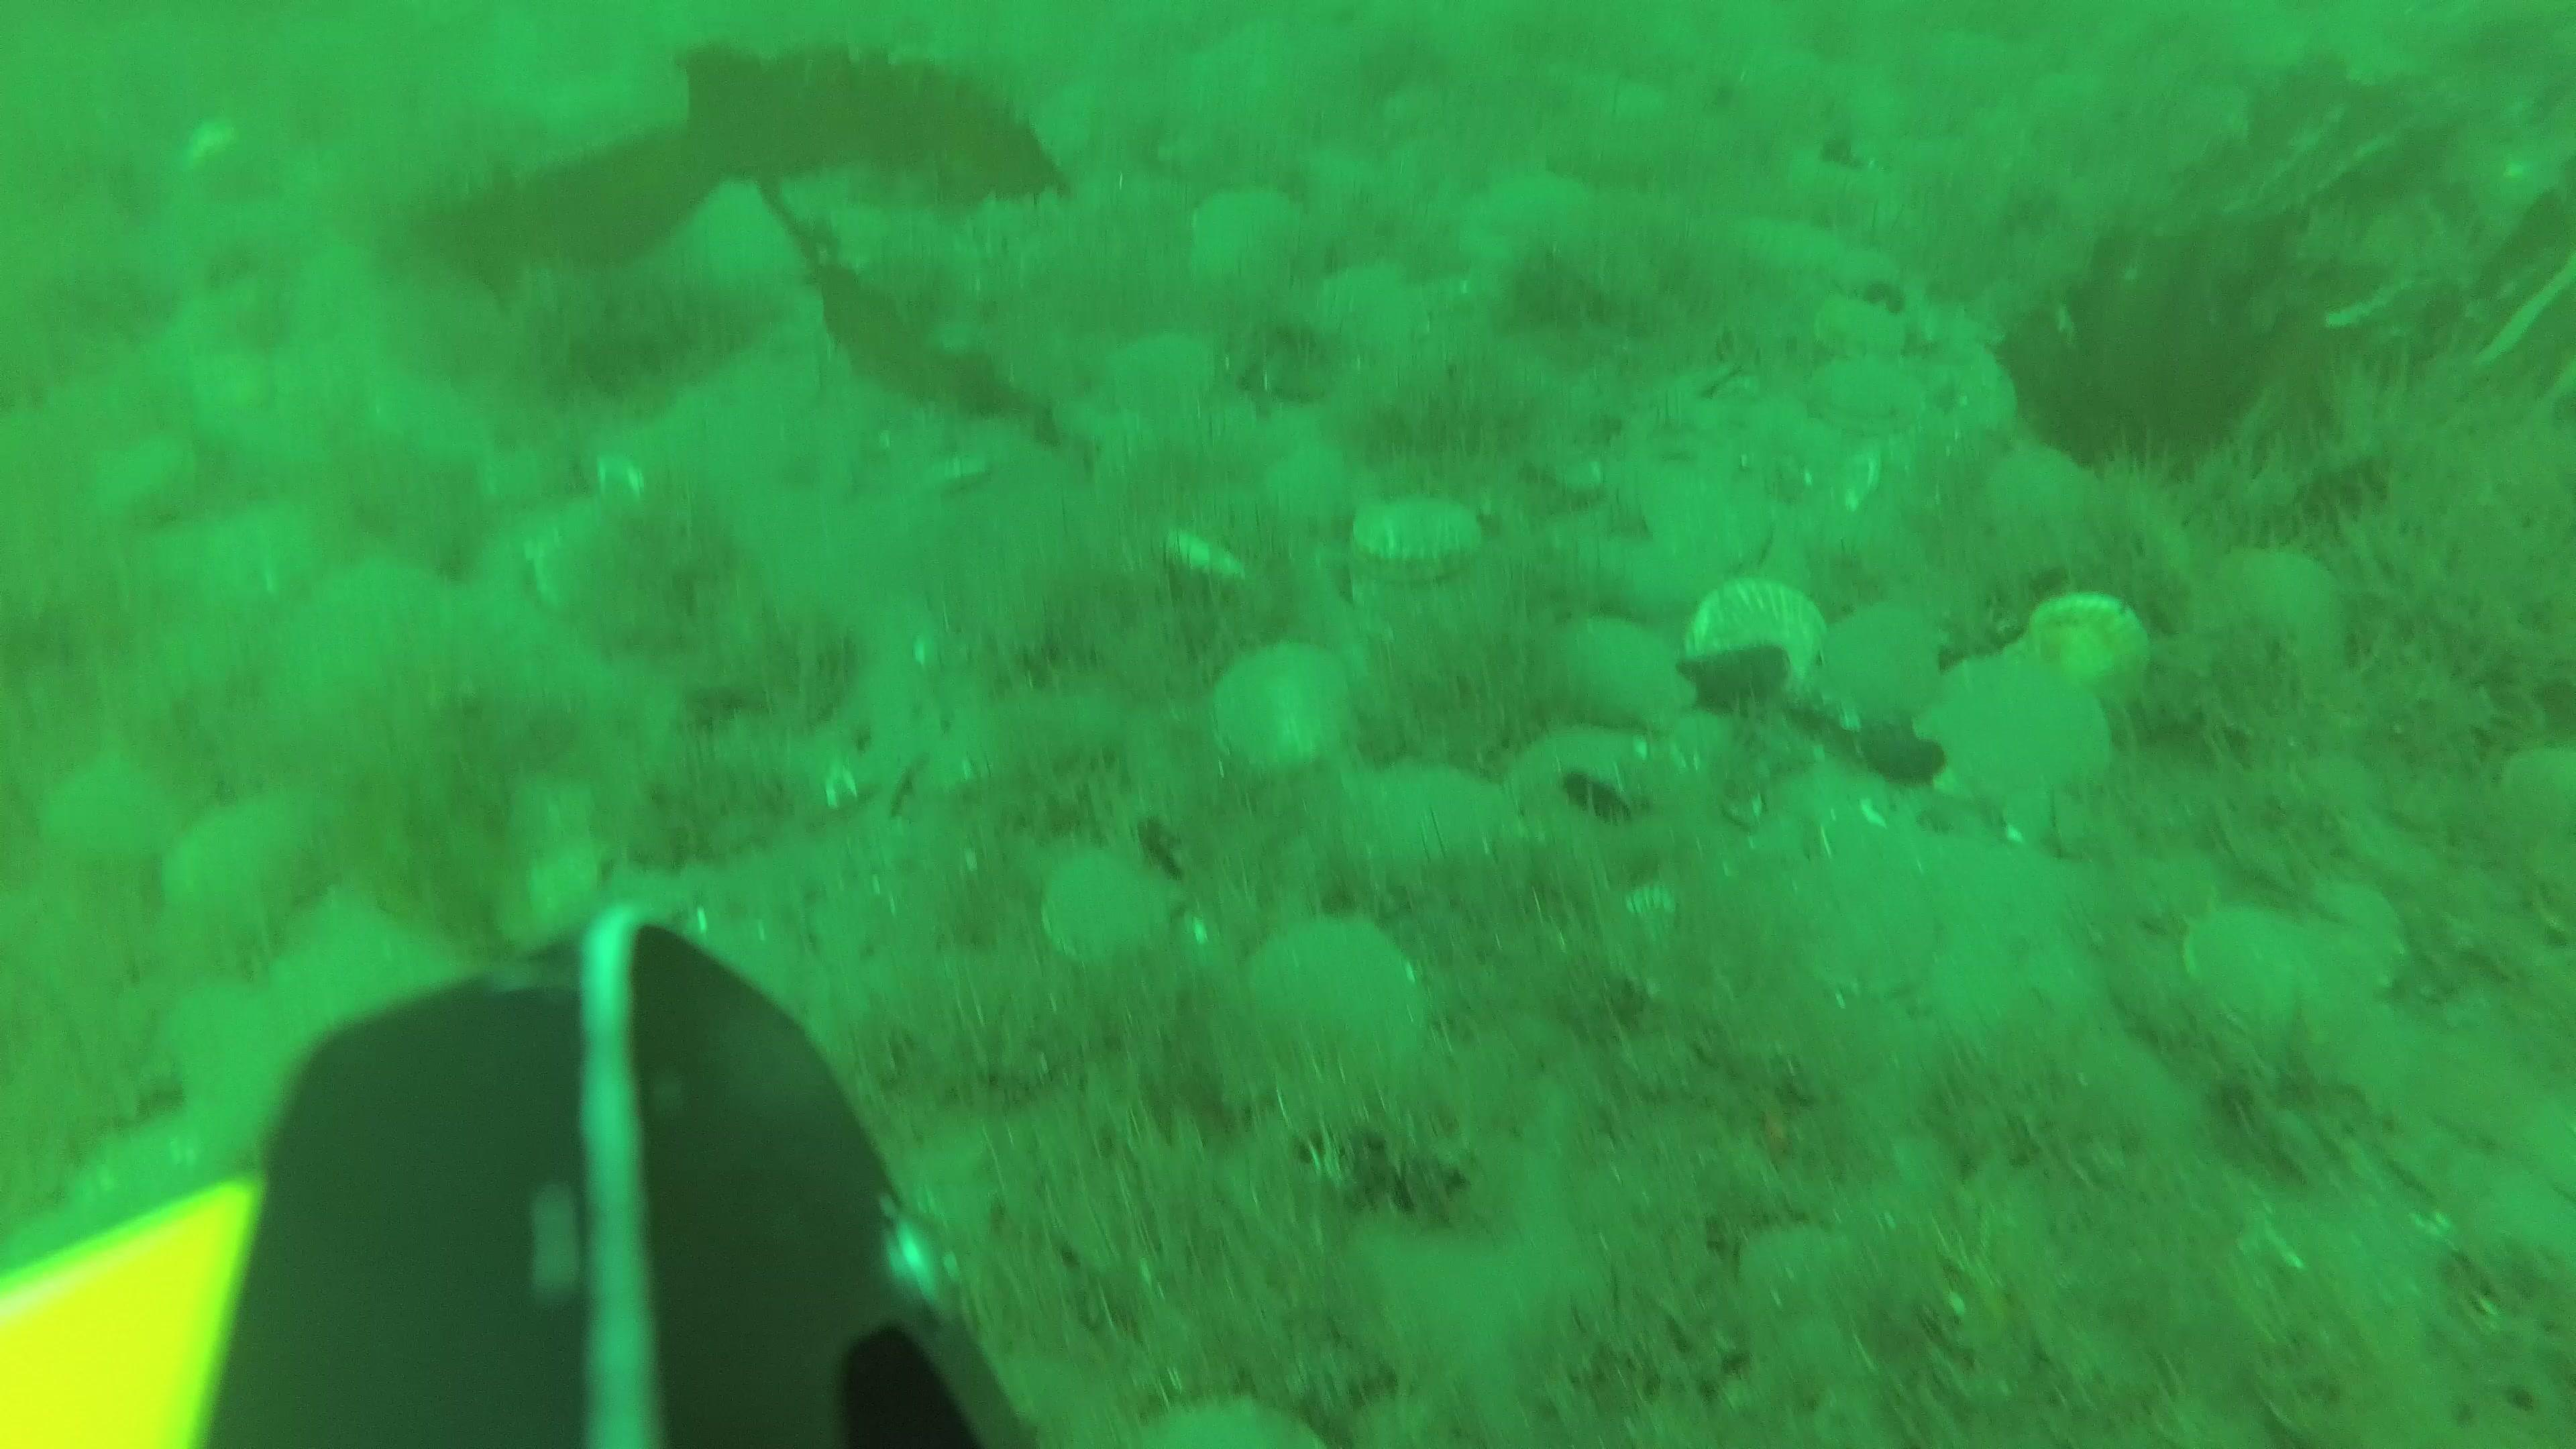scallop: (1258, 908, 1431, 1074), (1937, 660, 2112, 816), (2183, 902, 2351, 1062), (1790, 855, 1957, 1001), (2212, 540, 2362, 699), (272, 908, 448, 1039), (1350, 761, 1511, 902), (1217, 644, 1376, 770), (1801, 594, 1951, 725), (163, 809, 306, 934), (1564, 610, 1700, 741), (529, 511, 674, 632), (1683, 579, 1824, 697), (1638, 469, 1785, 577), (53, 761, 189, 872), (1185, 191, 1316, 306), (1049, 851, 1184, 962), (1983, 446, 2107, 545), (1805, 349, 1925, 441), (1352, 495, 1483, 579), (1111, 338, 1223, 428), (1810, 299, 1905, 366)
